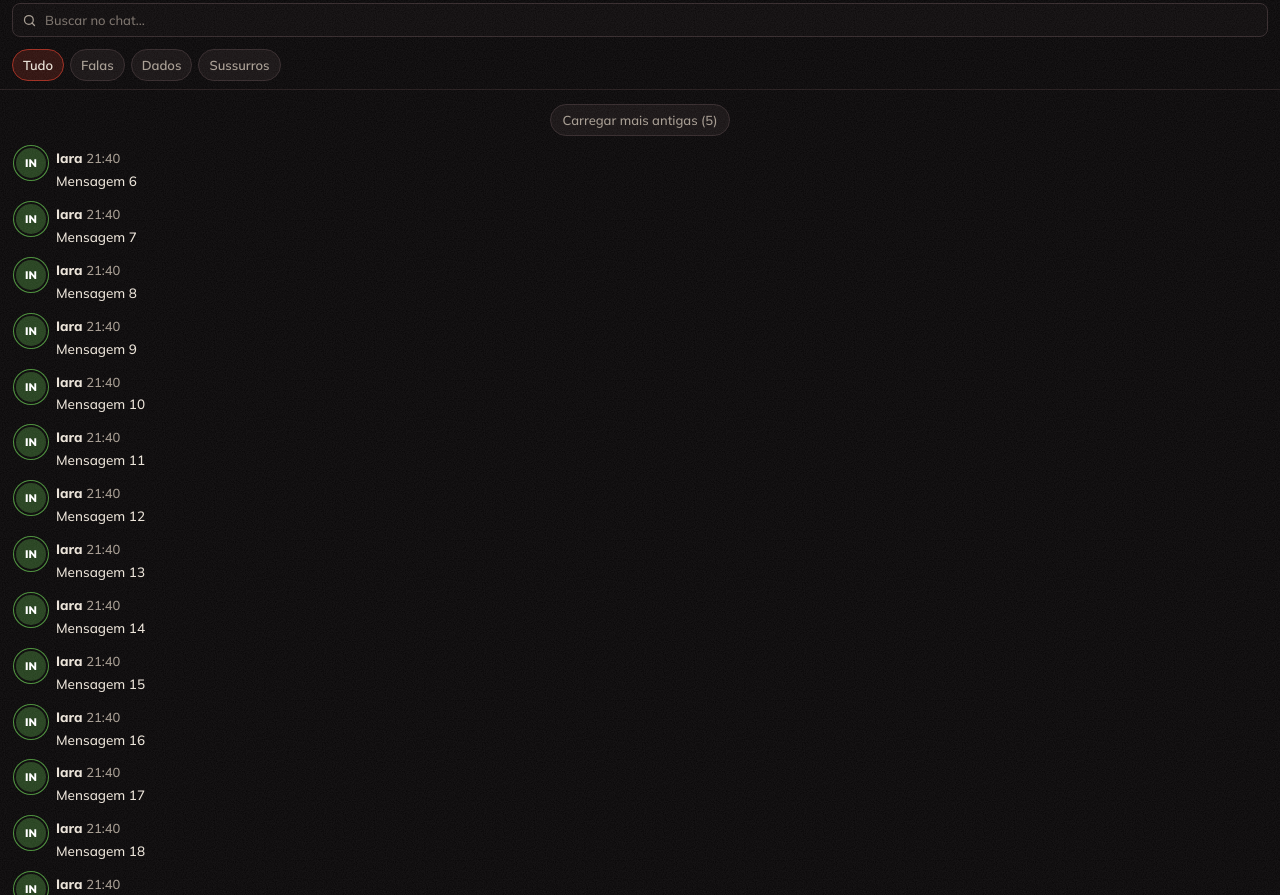
it: Chat com muitas mensagens › pagina mensagens antigas e filtra por tipo e busca
This screenshot has width=1280, height=895.
Click the button "Carregar mais antigas (5)" at point(640, 120), box [550, 104, 730, 136]
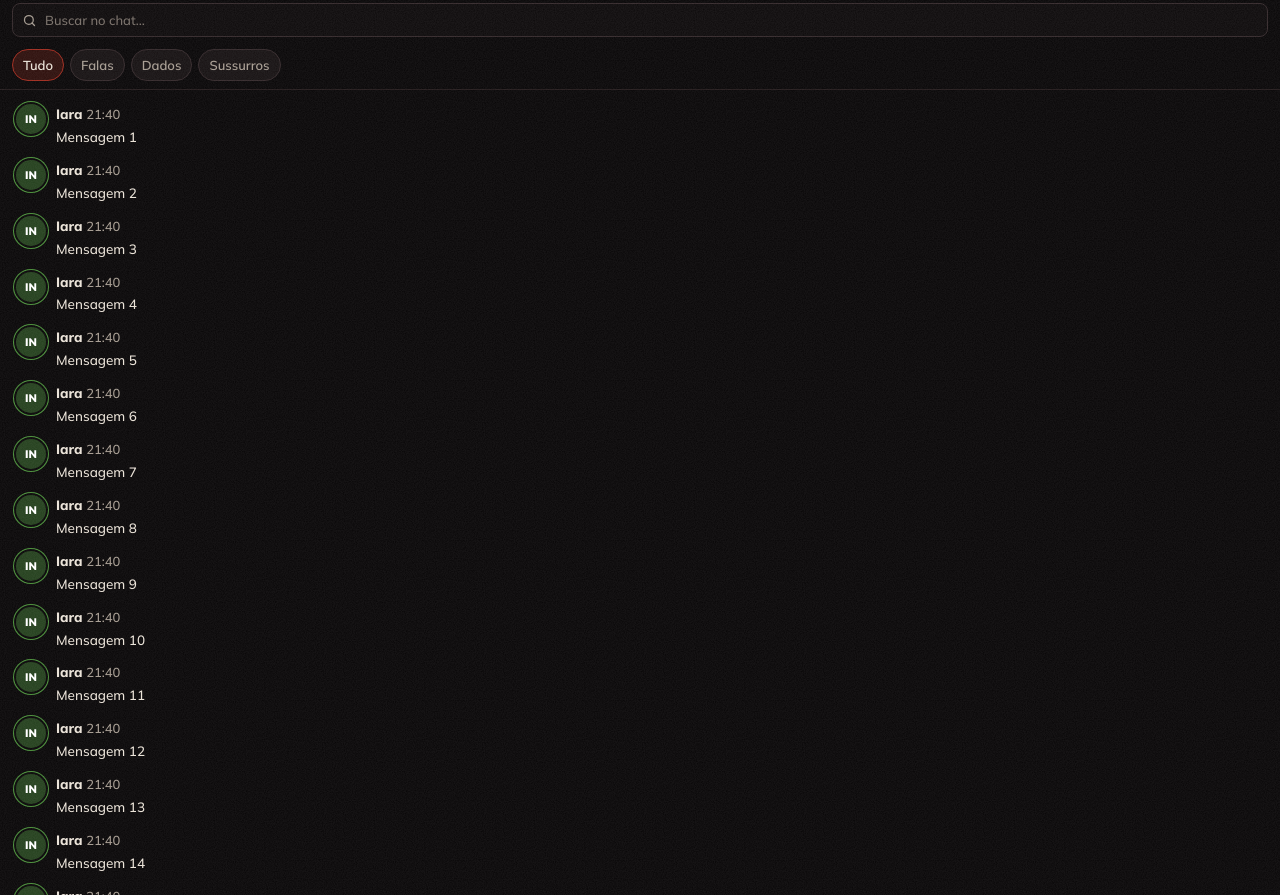
Now the text "Mensagem 1" is shown, box [56, 128, 137, 145]
Click the button "Dados" at point(162, 65), box [131, 49, 192, 81]
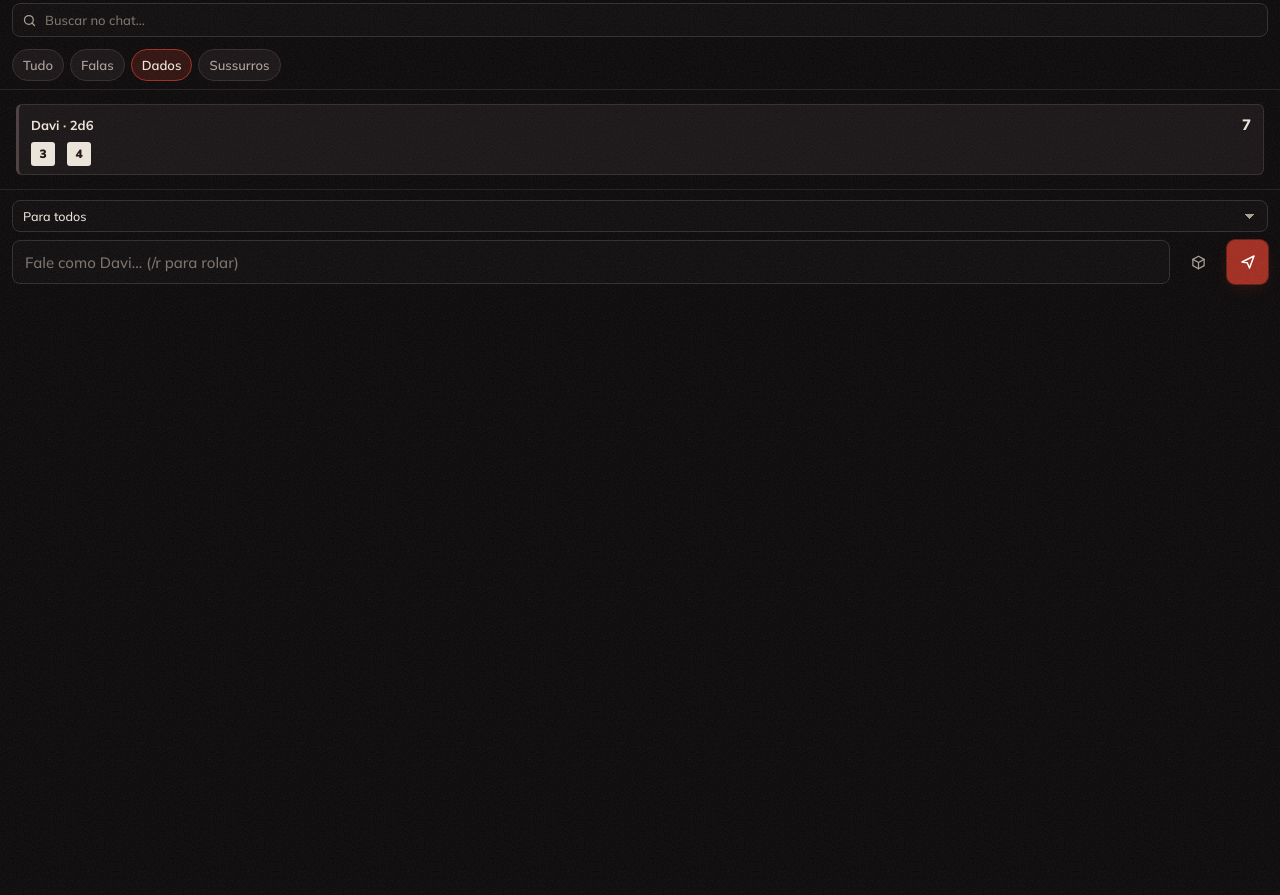
Expected: the text "Davi · 2d6" is shown, [31, 114, 93, 135]
Now the text "Mensagem 1" is gone
Click the button "Tudo" at point(38, 65), box [12, 49, 64, 81]
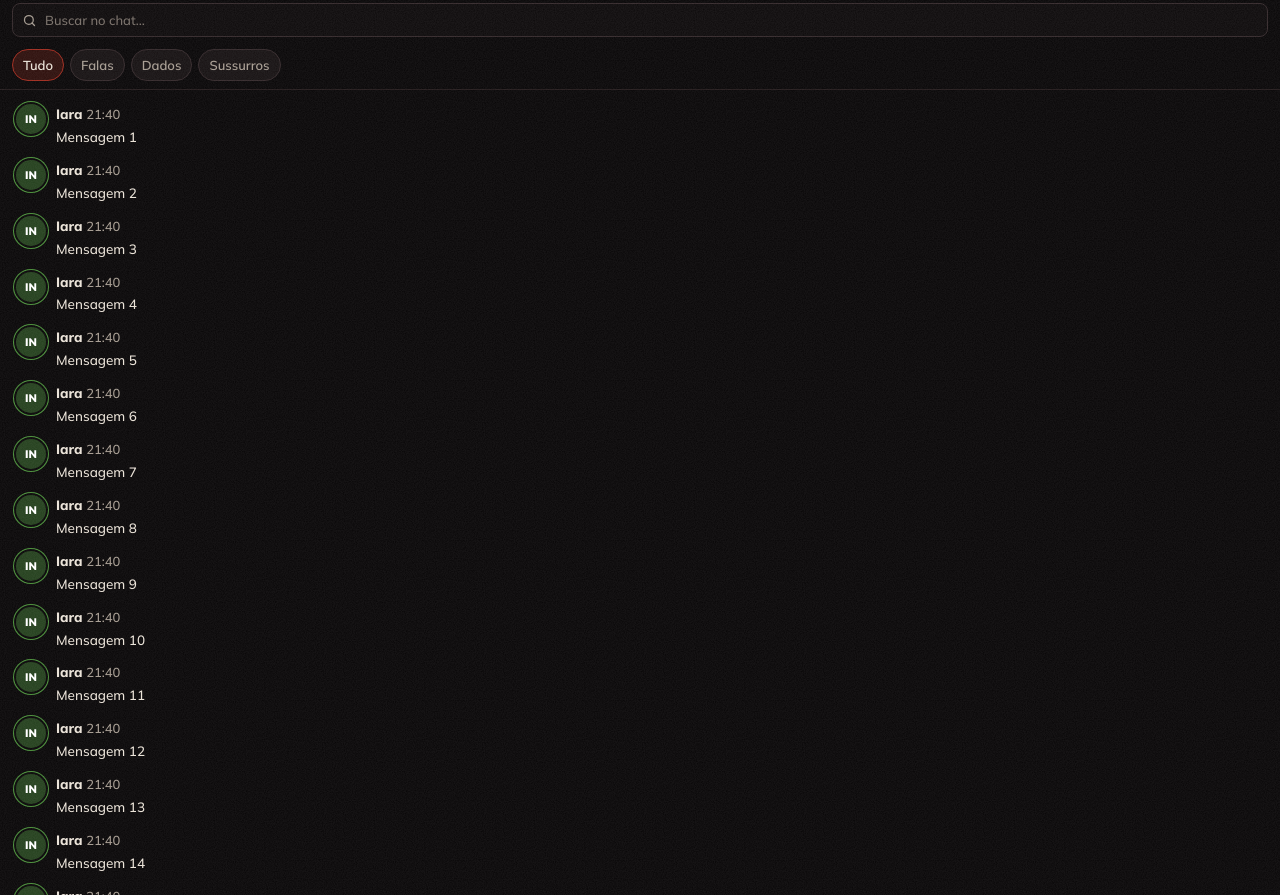
Type "Mensagem 2" into the search field labelled "Buscar no chat" at point(640, 20), box [12, 3, 1268, 37]
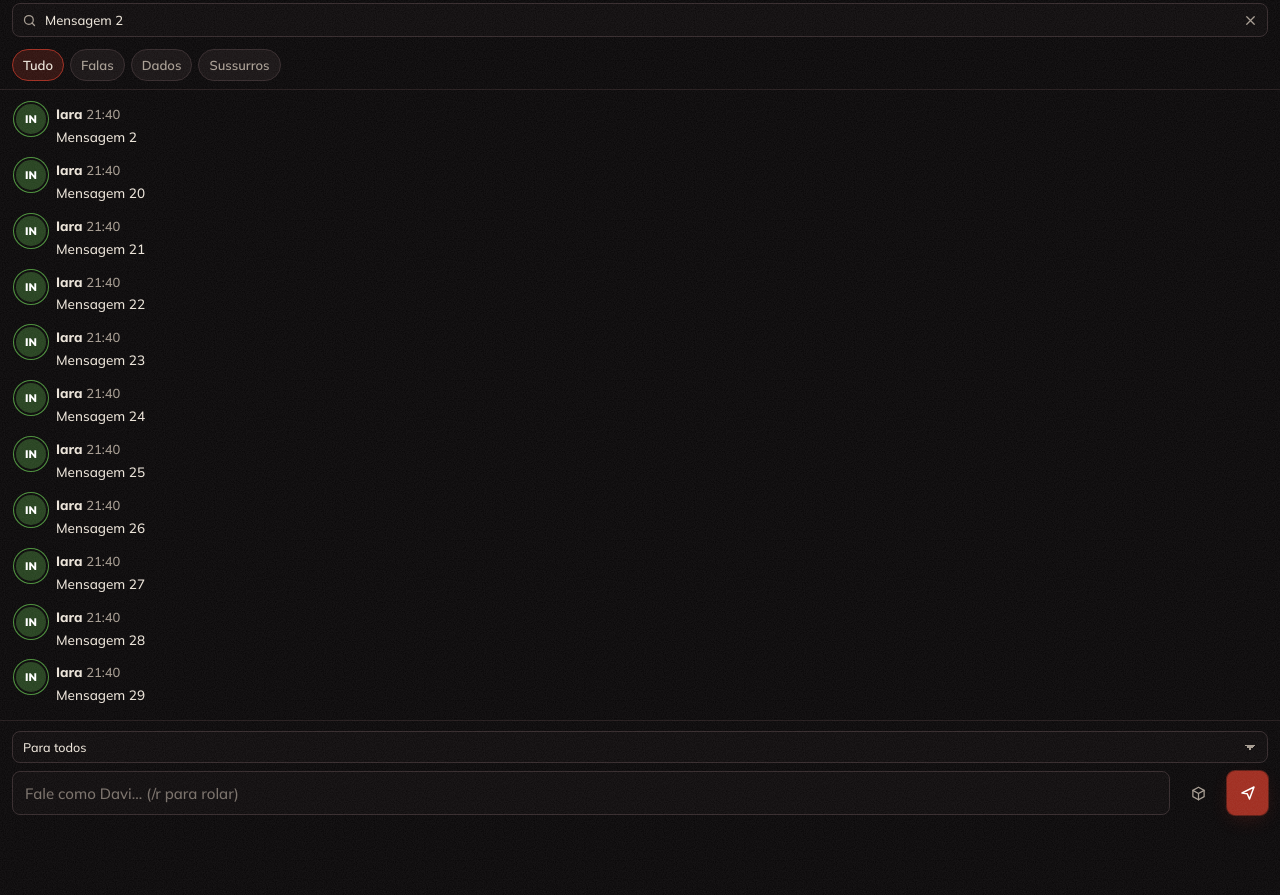
Now the text "Mensagem 2" is shown, box [56, 128, 137, 145]
Now the text "Mensagem 1" is gone
# Limpar busca restaura a lista e botão de atalho de dado preenche /r.
Click the button named "Limpar busca" at point(1250, 20), box [1238, 8, 1262, 32]
(page scrolled)
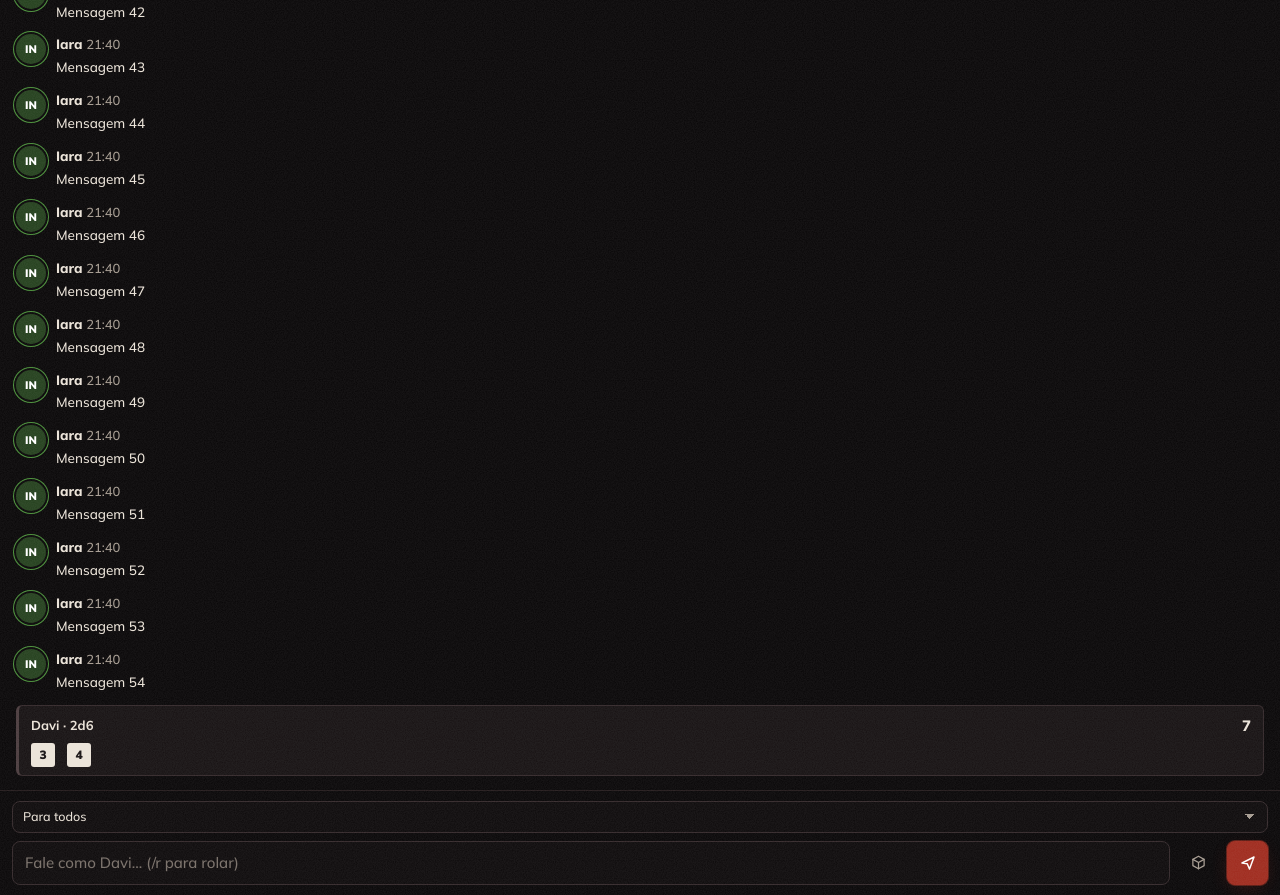
Click the button named "Atalho para rolar dados" at point(1199, 863), box [1182, 845, 1215, 881]
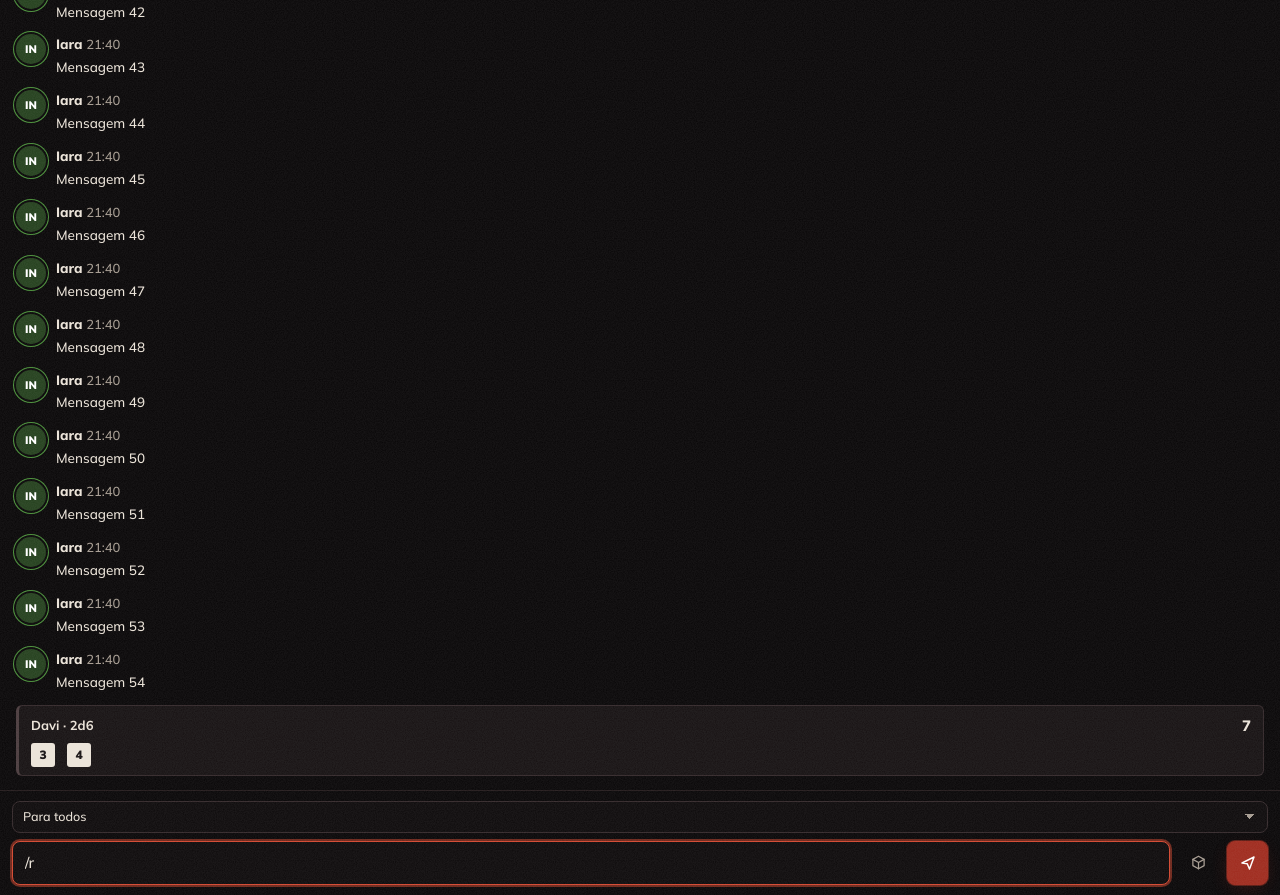
Now the field named "Mensagem" holds "/r ", box [12, 841, 1170, 885]
